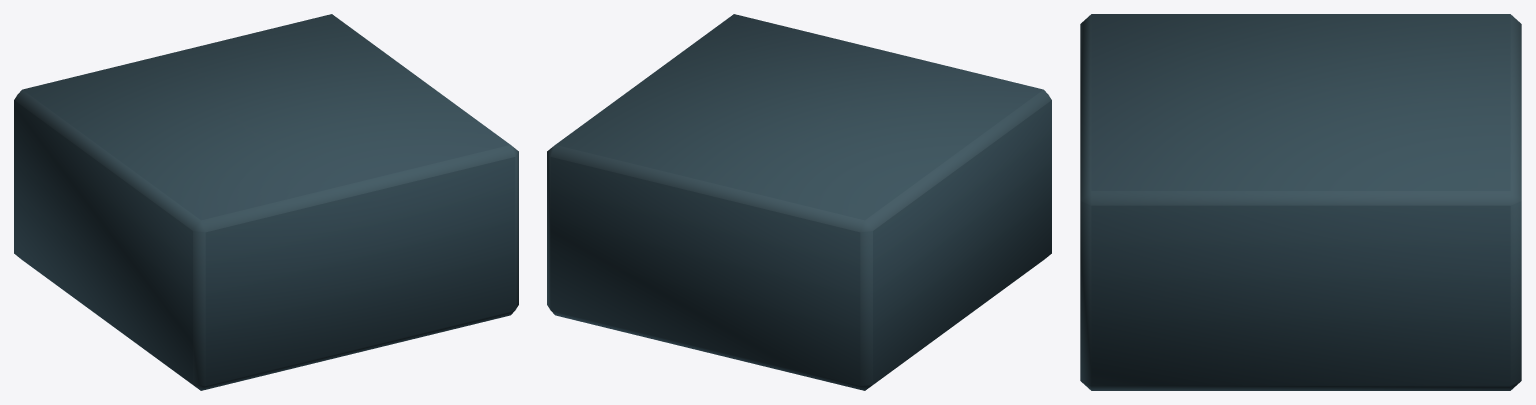
File: cube_06_hue_4.fbx
3 renders of one model, left to right at view 1: azimuth 30°, elevation 25°; view 2: azimuth 150°, elevation 25°; view 3: azimuth 270°, elevation 25°, orthographic. The views are drawn at different scales.
Visible parts, largest first — view 1: cube_06_hue_4; view 2: cube_06_hue_4; view 3: cube_06_hue_4.
Boxes of the visible parts, bbox=[...] form: cube_06_hue_4: bbox=[14, 14, 518, 390]; cube_06_hue_4: bbox=[547, 14, 1051, 390]; cube_06_hue_4: bbox=[1080, 14, 1521, 390].
Size of the model in its own units: 200 by 100 by 200.
